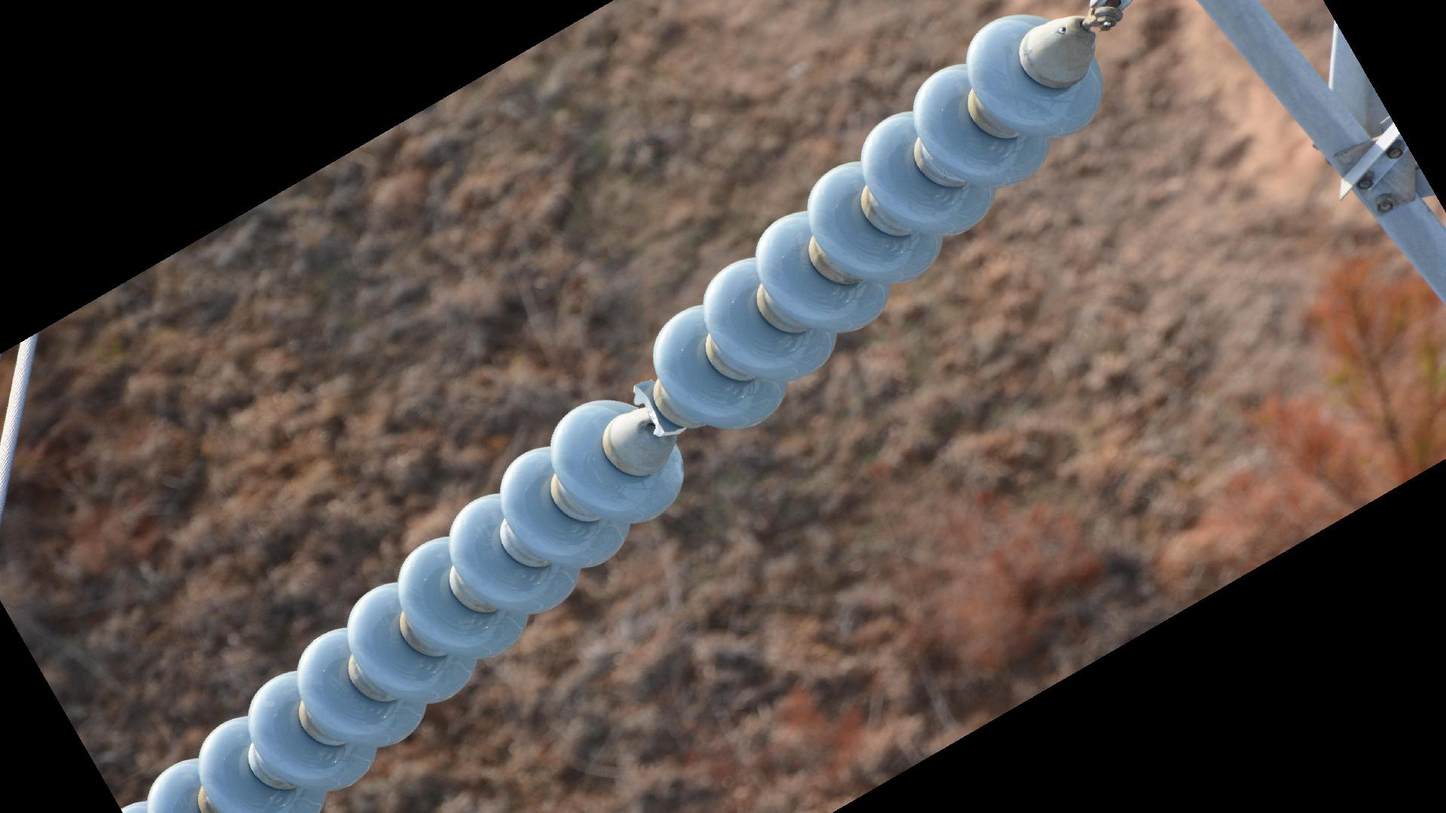insulator: (118, 5, 1108, 813)
insulator_breakage: (628, 374, 692, 441)
